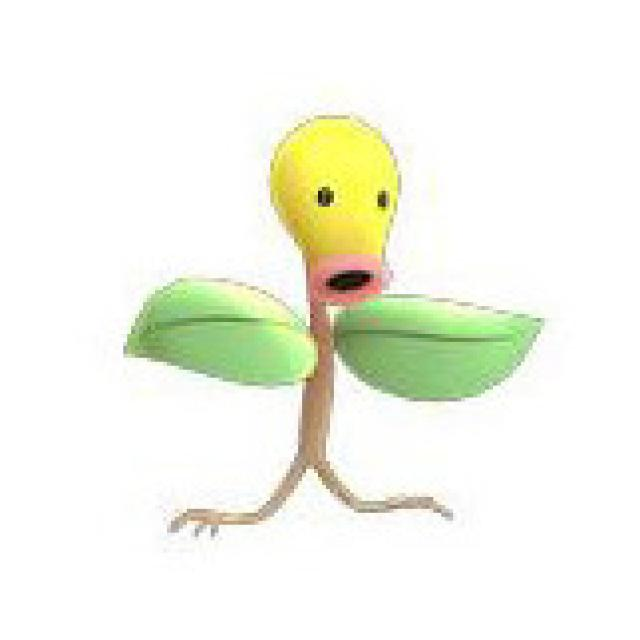Bellsprout: (258, 111, 405, 512)
